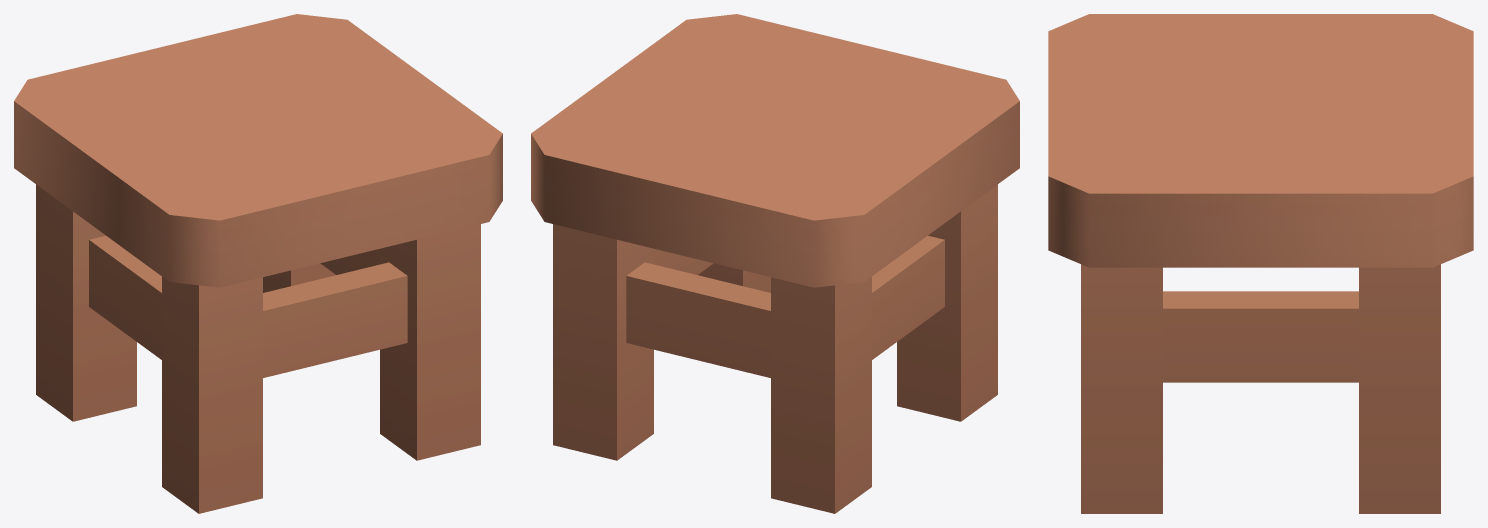
File: stool.glb
The picture shows the model from 3 angles, left to right: view 1: azimuth 30°, elevation 25°; view 2: azimuth 150°, elevation 25°; view 3: azimuth 270°, elevation 25°; orthographic projection. The views are drawn at different scales.
Visible parts, largest first — view 1: stall-stool; view 2: stall-stool; view 3: stall-stool.
Part boxes in pixels (bbox=[...]): stall-stool: bbox=[14, 14, 502, 513]; stall-stool: bbox=[531, 14, 1019, 513]; stall-stool: bbox=[1048, 14, 1473, 513].
Bounding box in the file's own units: 0.26 × 0.2255 × 0.26.
1 material, 1 textured.
